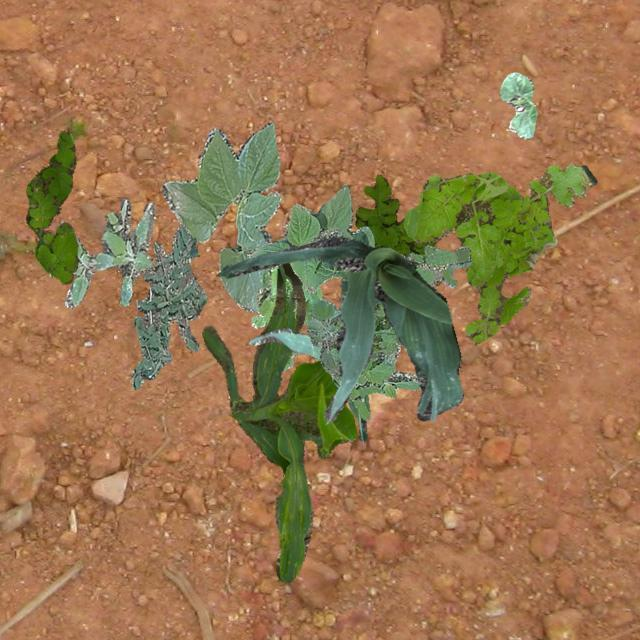crop: (200, 262, 380, 582), (216, 236, 462, 422), (160, 122, 280, 314), (244, 182, 374, 330), (248, 326, 368, 442), (498, 70, 536, 138)
weed: (402, 162, 596, 344), (328, 250, 456, 418), (130, 222, 206, 388), (64, 196, 154, 308), (24, 130, 78, 282), (250, 260, 320, 370), (354, 173, 436, 254), (305, 298, 377, 374), (424, 244, 471, 286)
